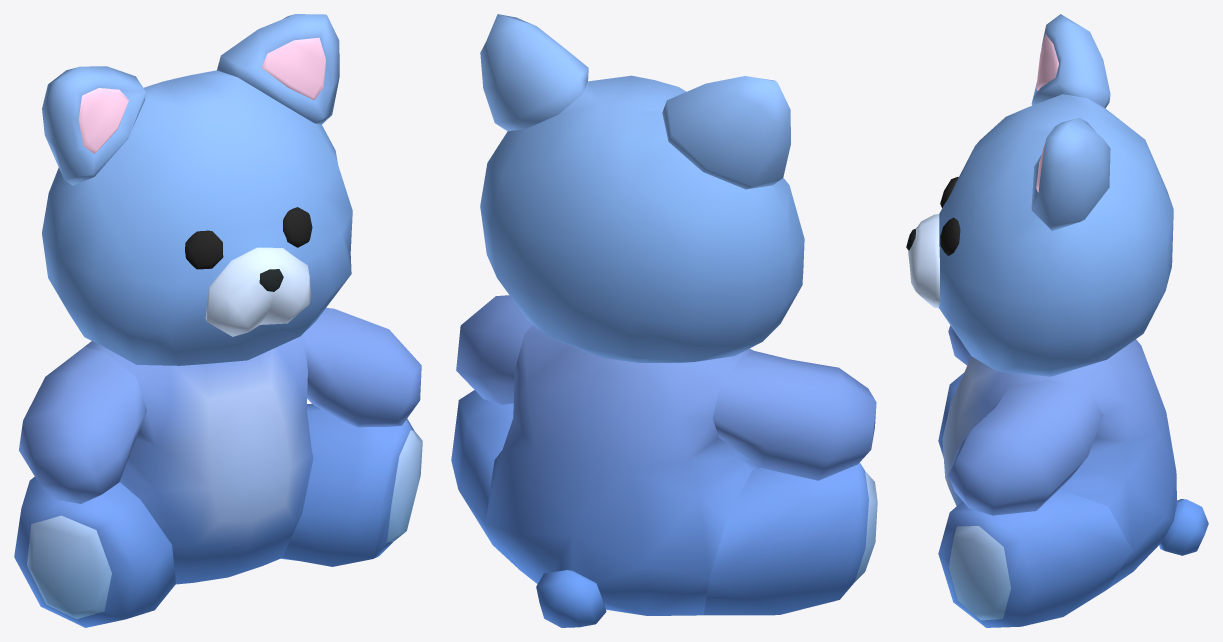
File: Cat_01.glb
The picture shows the model from 3 angles, left to right: view 1: azimuth 30°, elevation 25°; view 2: azimuth 150°, elevation 25°; view 3: azimuth 270°, elevation 25°; orthographic projection. The views are drawn at different scales.
Parts seen in each view (by area): view 1: Cat_01; view 2: Cat_01; view 3: Cat_01.
Part boxes in pixels (x1,y1,x2,y2): Cat_01: (14, 14, 422, 627); Cat_01: (451, 14, 877, 627); Cat_01: (906, 14, 1208, 627).
Bounding box in the file's own units: 0.3281 × 0.427 × 0.2355.
2 materials, 2 textured.
